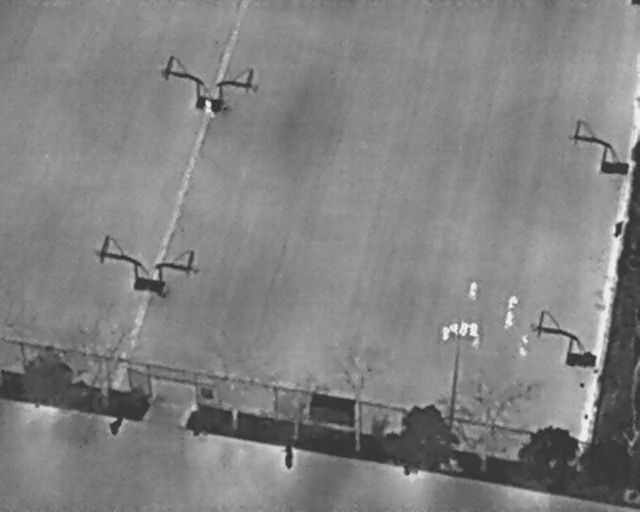Bicycle: (105, 409, 126, 437), (279, 441, 297, 470)
Person: (502, 309, 516, 331), (455, 319, 470, 338), (202, 98, 216, 118), (505, 293, 520, 311), (519, 334, 530, 358), (467, 280, 479, 301), (467, 321, 479, 337), (441, 326, 450, 342), (448, 322, 459, 335)
